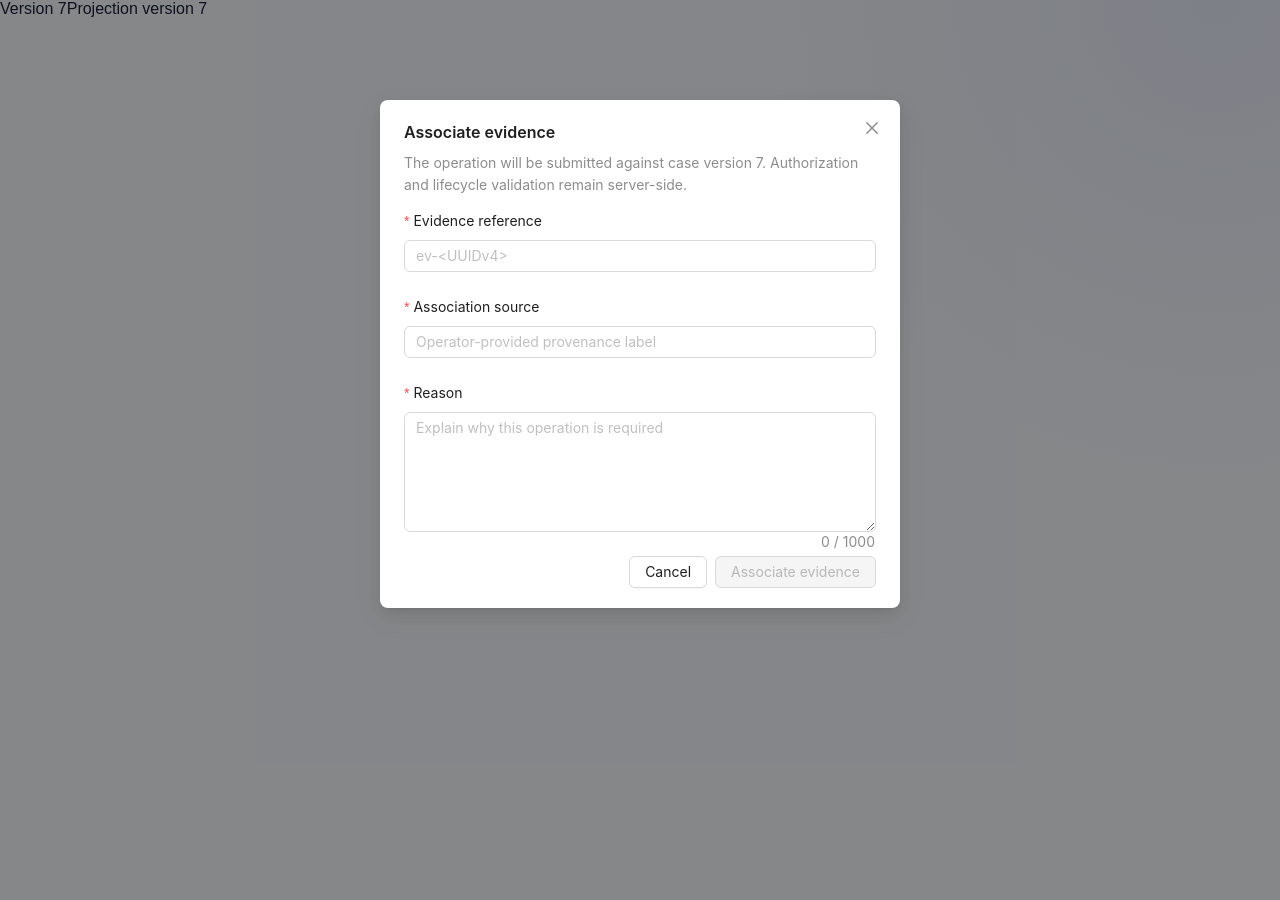
it: Q-018 association action registry and runner › associateEvidence disables submission while its request is pending
Type "ev-18000000-0000-4000-8000-000000000001" into the field labelled "Evidence reference".
click(640, 256); type("ev-18000000-0000-4000-8000-000000000001")  # box 404,240 -> 876,272
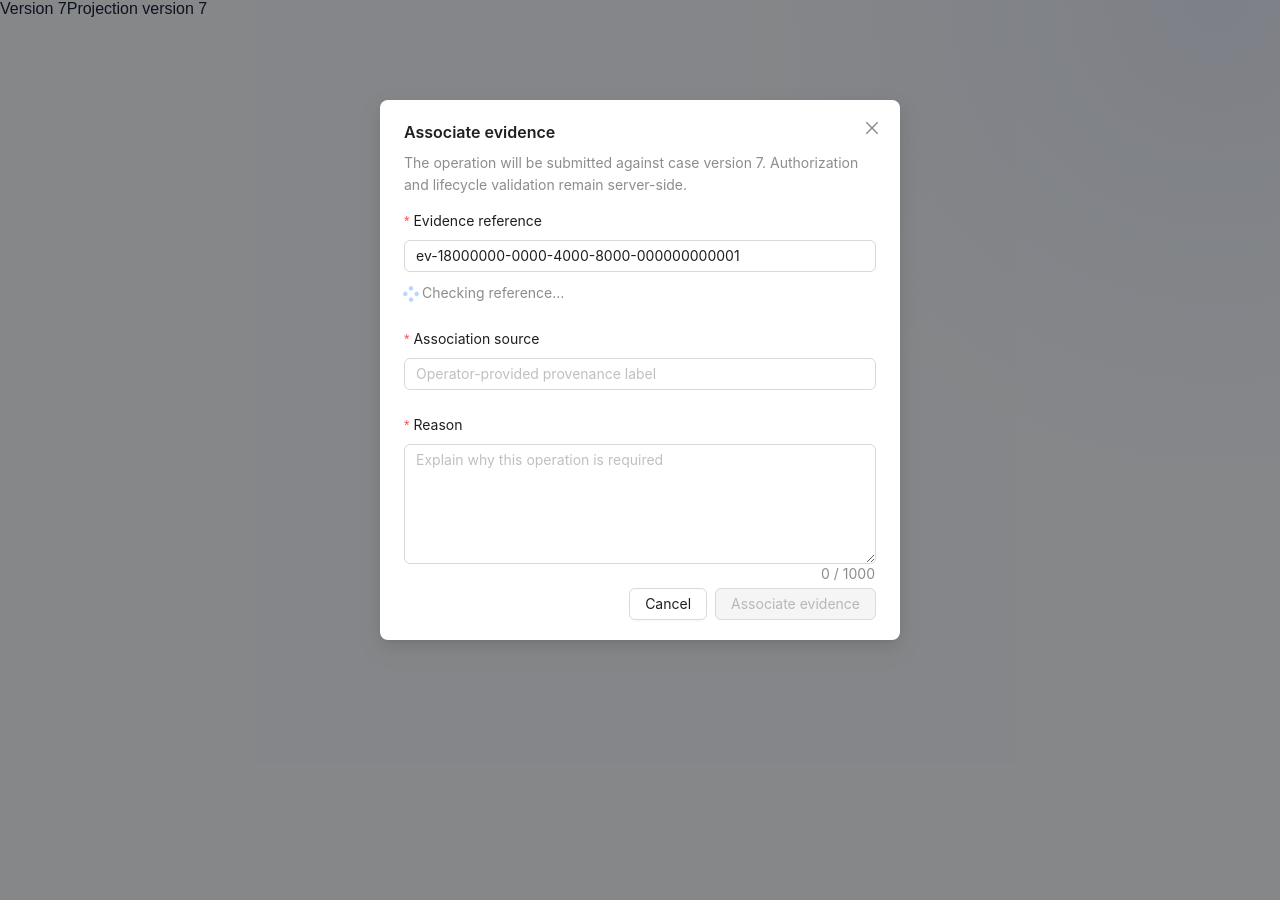
Type "operator-review" into the field labelled "Association source".
click(640, 374); type("operator-review")  # box 404,358 -> 876,390
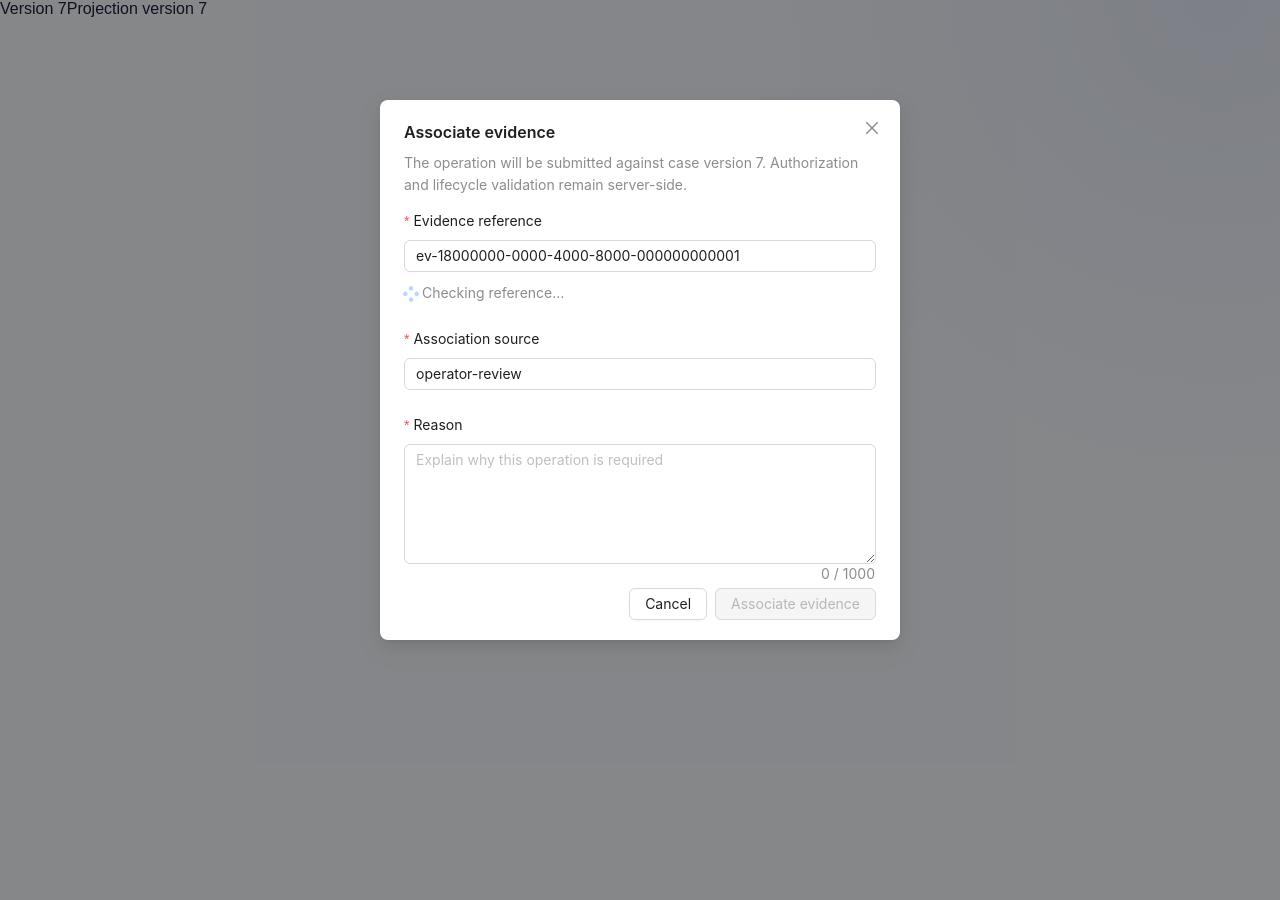
Type "Attach reviewed evidence." into the text box labelled "Reason".
click(640, 504); type("Attach reviewed evidence.")  # box 405,445 -> 875,563
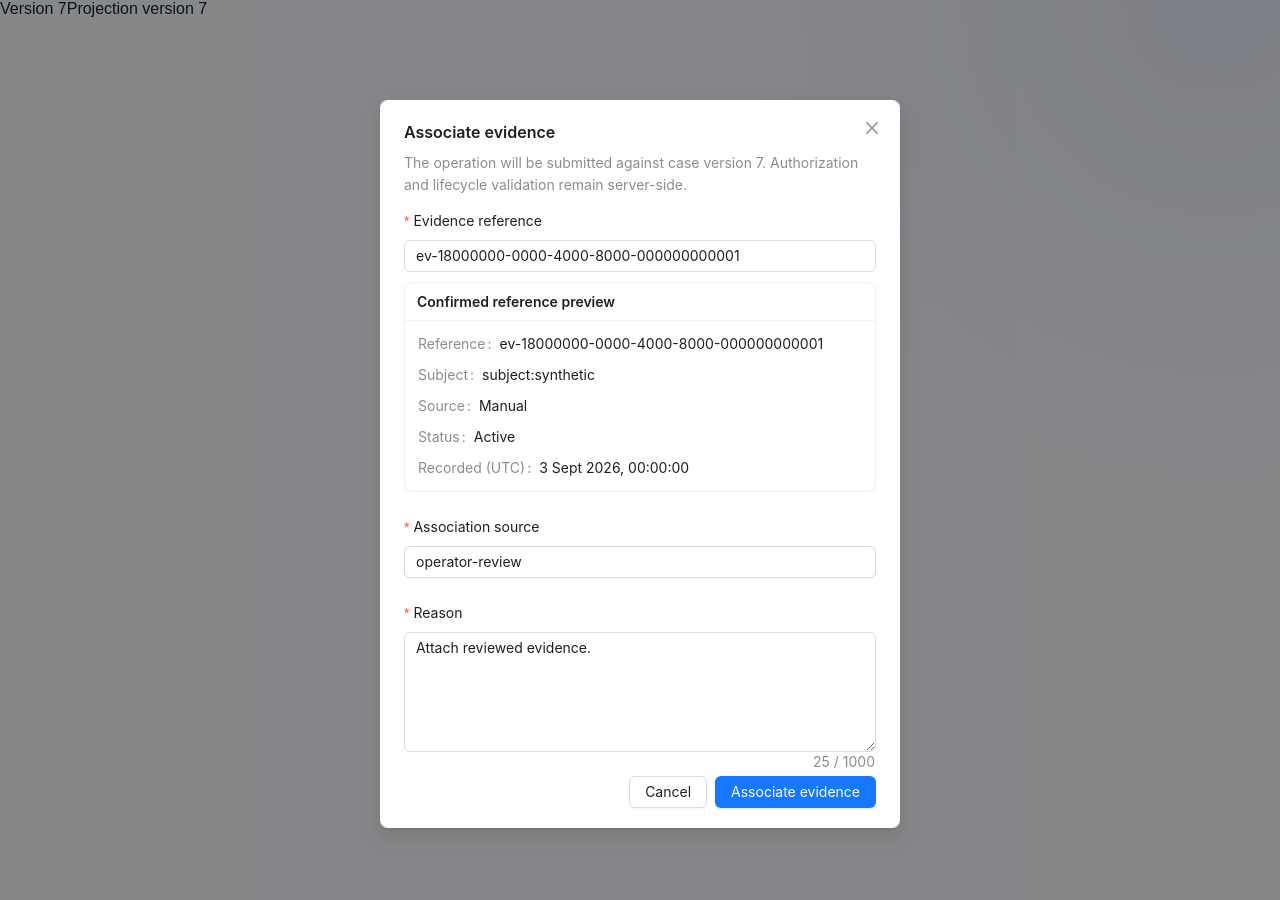
Expected: the text "Confirmed reference preview" is shown, 417,292 -> 615,310
Click the button "Associate evidence".
click(796, 792)  # box 715,776 -> 876,808
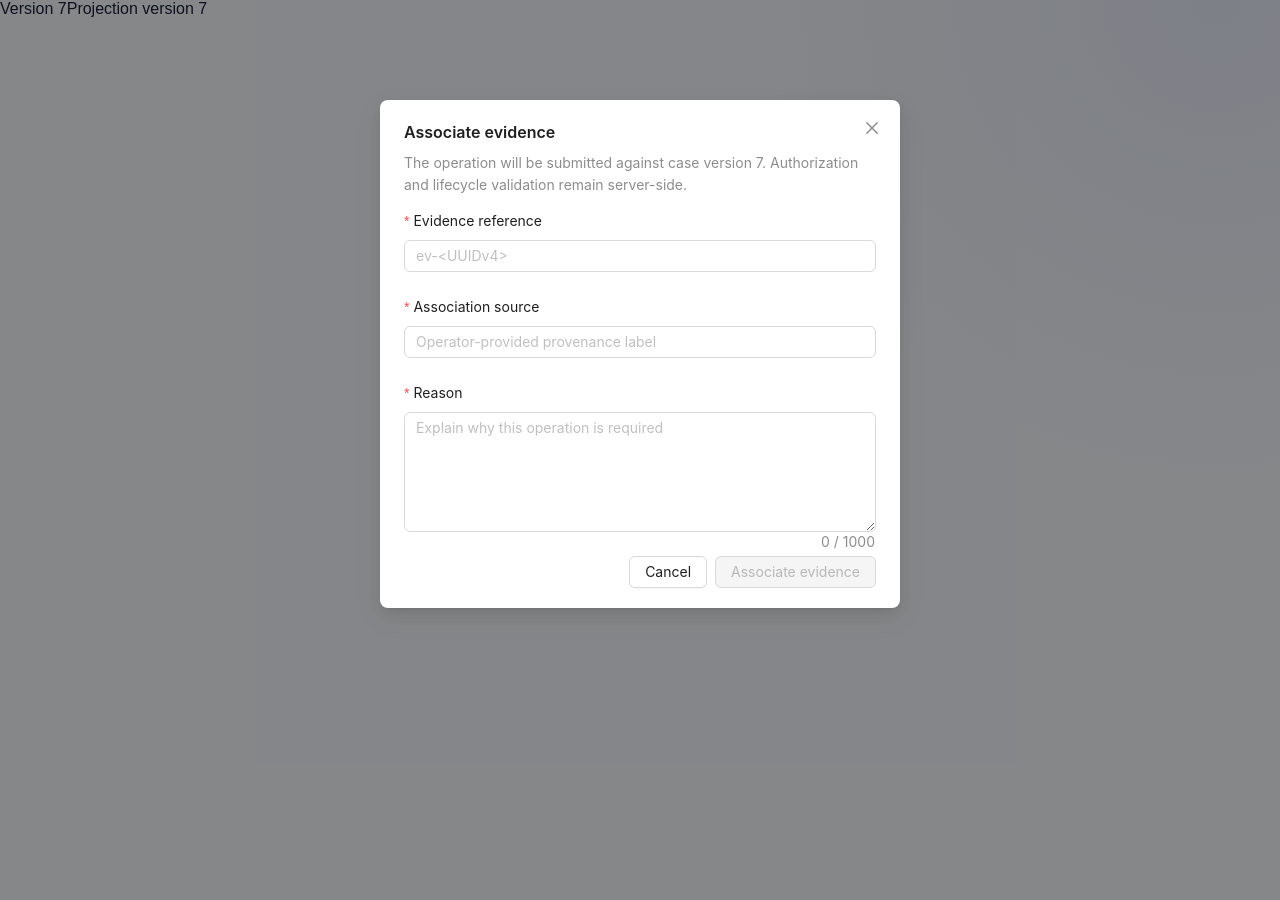
Expected: the button "Associate evidence" is disabled, 715,556 -> 876,588
